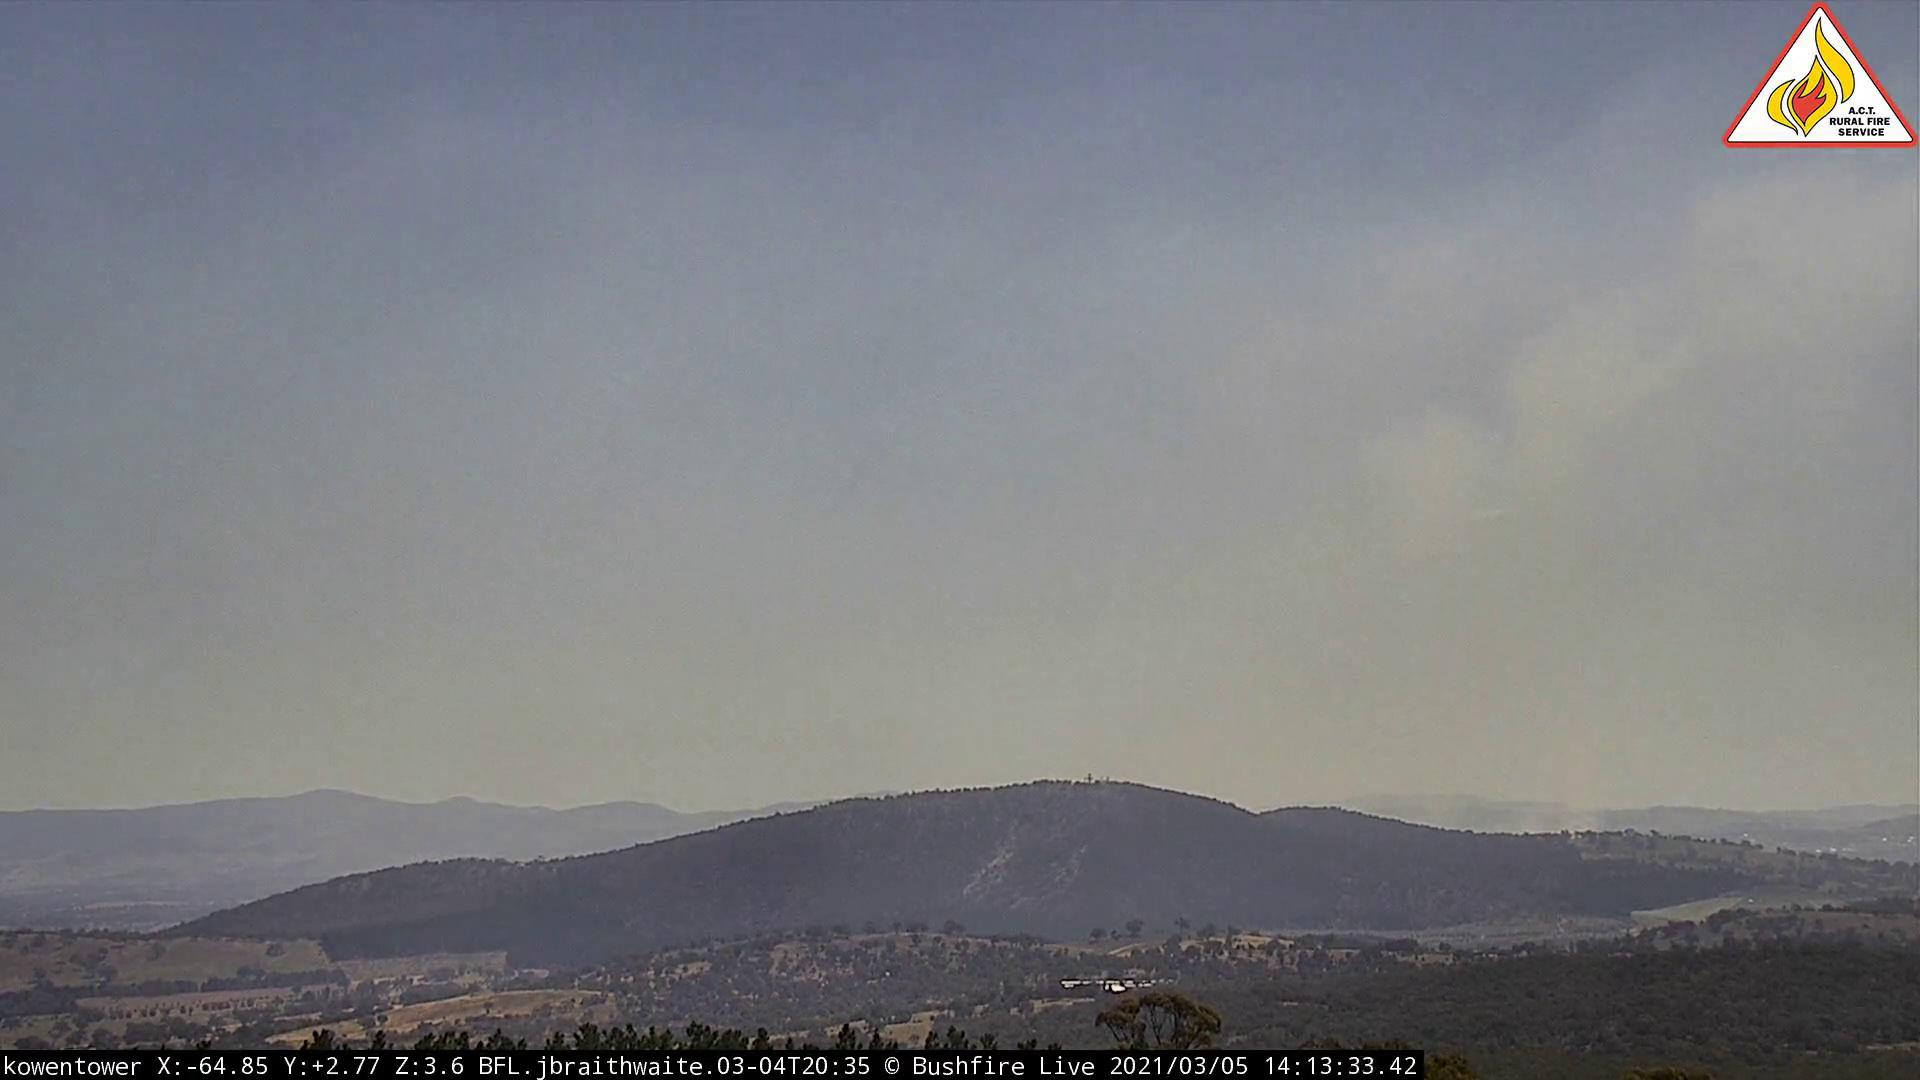instance_salient_object: (1399, 411, 1673, 843)
